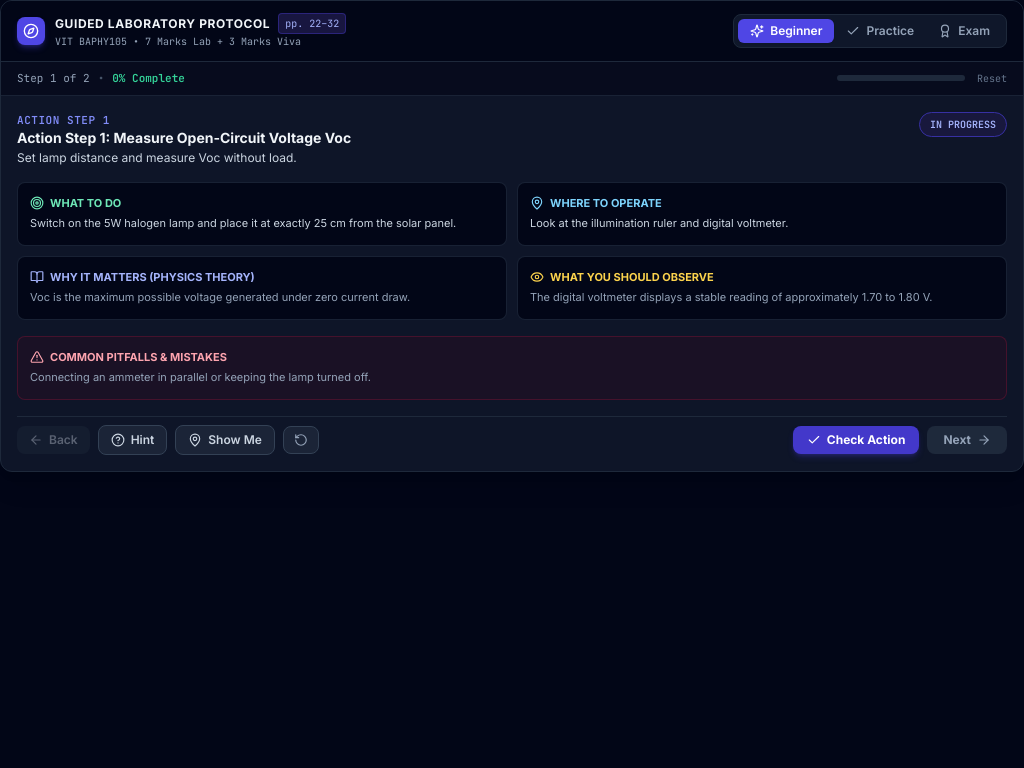
Test case: Reusable Instructional & Guided Lab System › 3. Hints, Show Me, and Reset Step Actions › toggles contextual hint without completing the step
Click the button "Hint": (132, 440) [98,425,167,455]
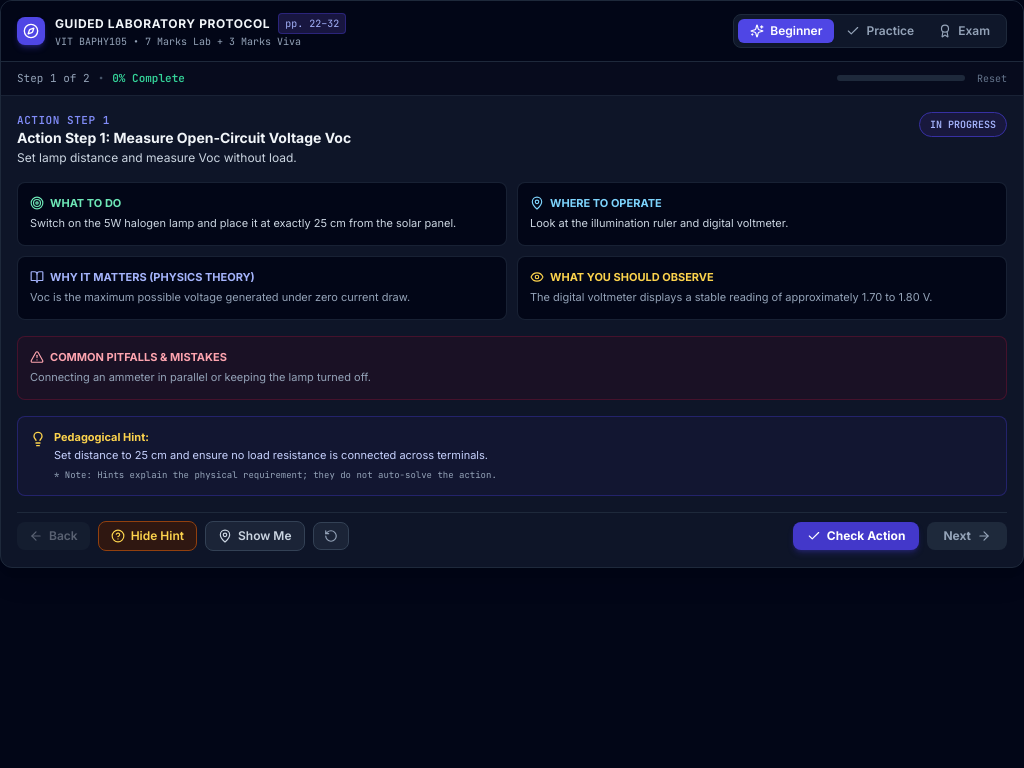
Check: the text "Pedagogical Hint:" is shown, box [54,430,149,444]
Check: the text "Set distance to 25 cm and ensure no load resistance is connected" is shown, box [54,448,488,462]
Check: the text "Hints explain the physical requirement; they do not auto-solve the action" is shown, box [54,469,497,481]
Note: Toggle off
Click the button "Hide Hint": (147, 536) [98,521,197,551]
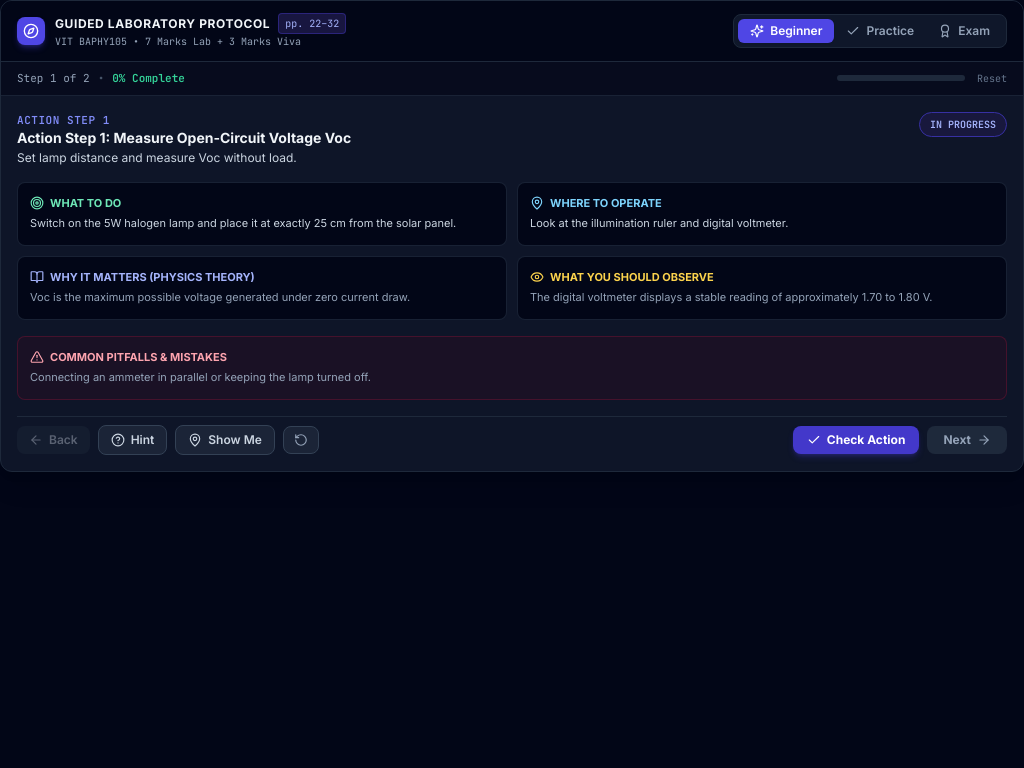
Check: the text "Pedagogical Hint:" is gone
